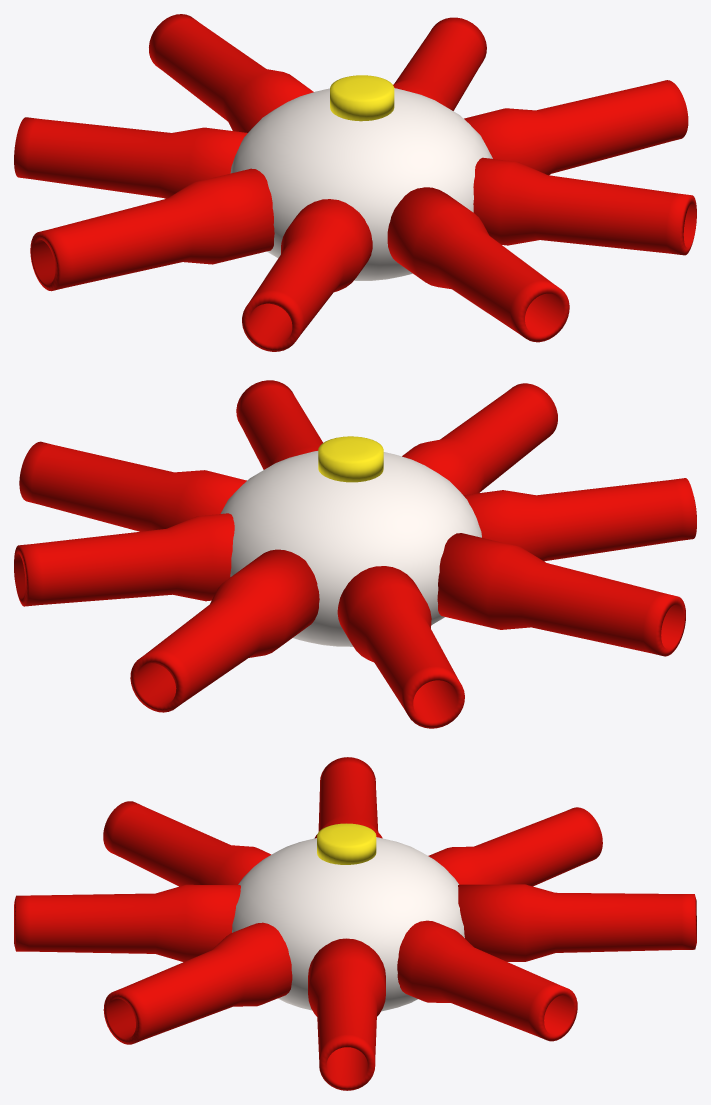
Rendered from SurroundSoundbetter.fbx.
The picture shows the model from 3 angles, top to bottom: view 1: azimuth 30°, elevation 25°; view 2: azimuth 150°, elevation 25°; view 3: azimuth 270°, elevation 25°; orthographic projection. The views are drawn at different scales.
Parts seen in each view (by area): view 1: Sphere, Cylinder.003, Cylinder.001, Cylinder.002, Cylinder.005, Cylinder, Cylinder.006, Cylinder.004, Cylinder.007, Cylinder.008; view 2: Sphere, Cylinder.003, Cylinder.004, Cylinder.007, Cylinder.006, Cylinder, Cylinder.005, Cylinder.002, Cylinder.001, Cylinder.008; view 3: Sphere, Cylinder.004, Cylinder.002, Cylinder.001, Cylinder.007, Cylinder, Cylinder.005, Cylinder.006, Cylinder.003, Cylinder.008.
Part boxes in pixels (x1,y1,x2,y2): Sphere: [230, 88, 492, 280]; Cylinder.003: [30, 168, 274, 291]; Cylinder.001: [473, 157, 696, 255]; Cylinder.002: [387, 187, 569, 342]; Cylinder.005: [14, 117, 247, 198]; Cylinder: [464, 80, 688, 175]; Cylinder.006: [242, 199, 372, 351]; Cylinder.004: [149, 14, 313, 132]; Cylinder.007: [393, 17, 486, 110]; Cylinder.008: [330, 75, 394, 121]; Sphere: [220, 451, 481, 646]; Cylinder.003: [437, 533, 685, 656]; Cylinder.004: [130, 549, 319, 712]; Cylinder.007: [14, 513, 234, 606]; Cylinder.006: [463, 478, 696, 561]; Cylinder: [19, 441, 246, 531]; Cylinder.005: [337, 566, 464, 728]; Cylinder.002: [402, 383, 557, 495]; Cylinder.001: [236, 380, 322, 469]; Cylinder.008: [318, 436, 383, 482]; Sphere: [232, 837, 464, 1011]; Cylinder.004: [458, 884, 696, 961]; Cylinder.002: [14, 884, 240, 961]; Cylinder.001: [103, 922, 292, 1044]; Cylinder.007: [397, 920, 577, 1041]; Cylinder: [308, 938, 385, 1090]; Cylinder.005: [428, 807, 602, 886]; Cylinder.006: [103, 801, 271, 886]; Cylinder.003: [314, 757, 382, 838]; Cylinder.008: [317, 823, 376, 864].
Size of the model in its own units: 958 by 259 by 975.
